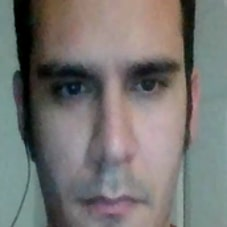awake: (35, 45, 183, 227)
